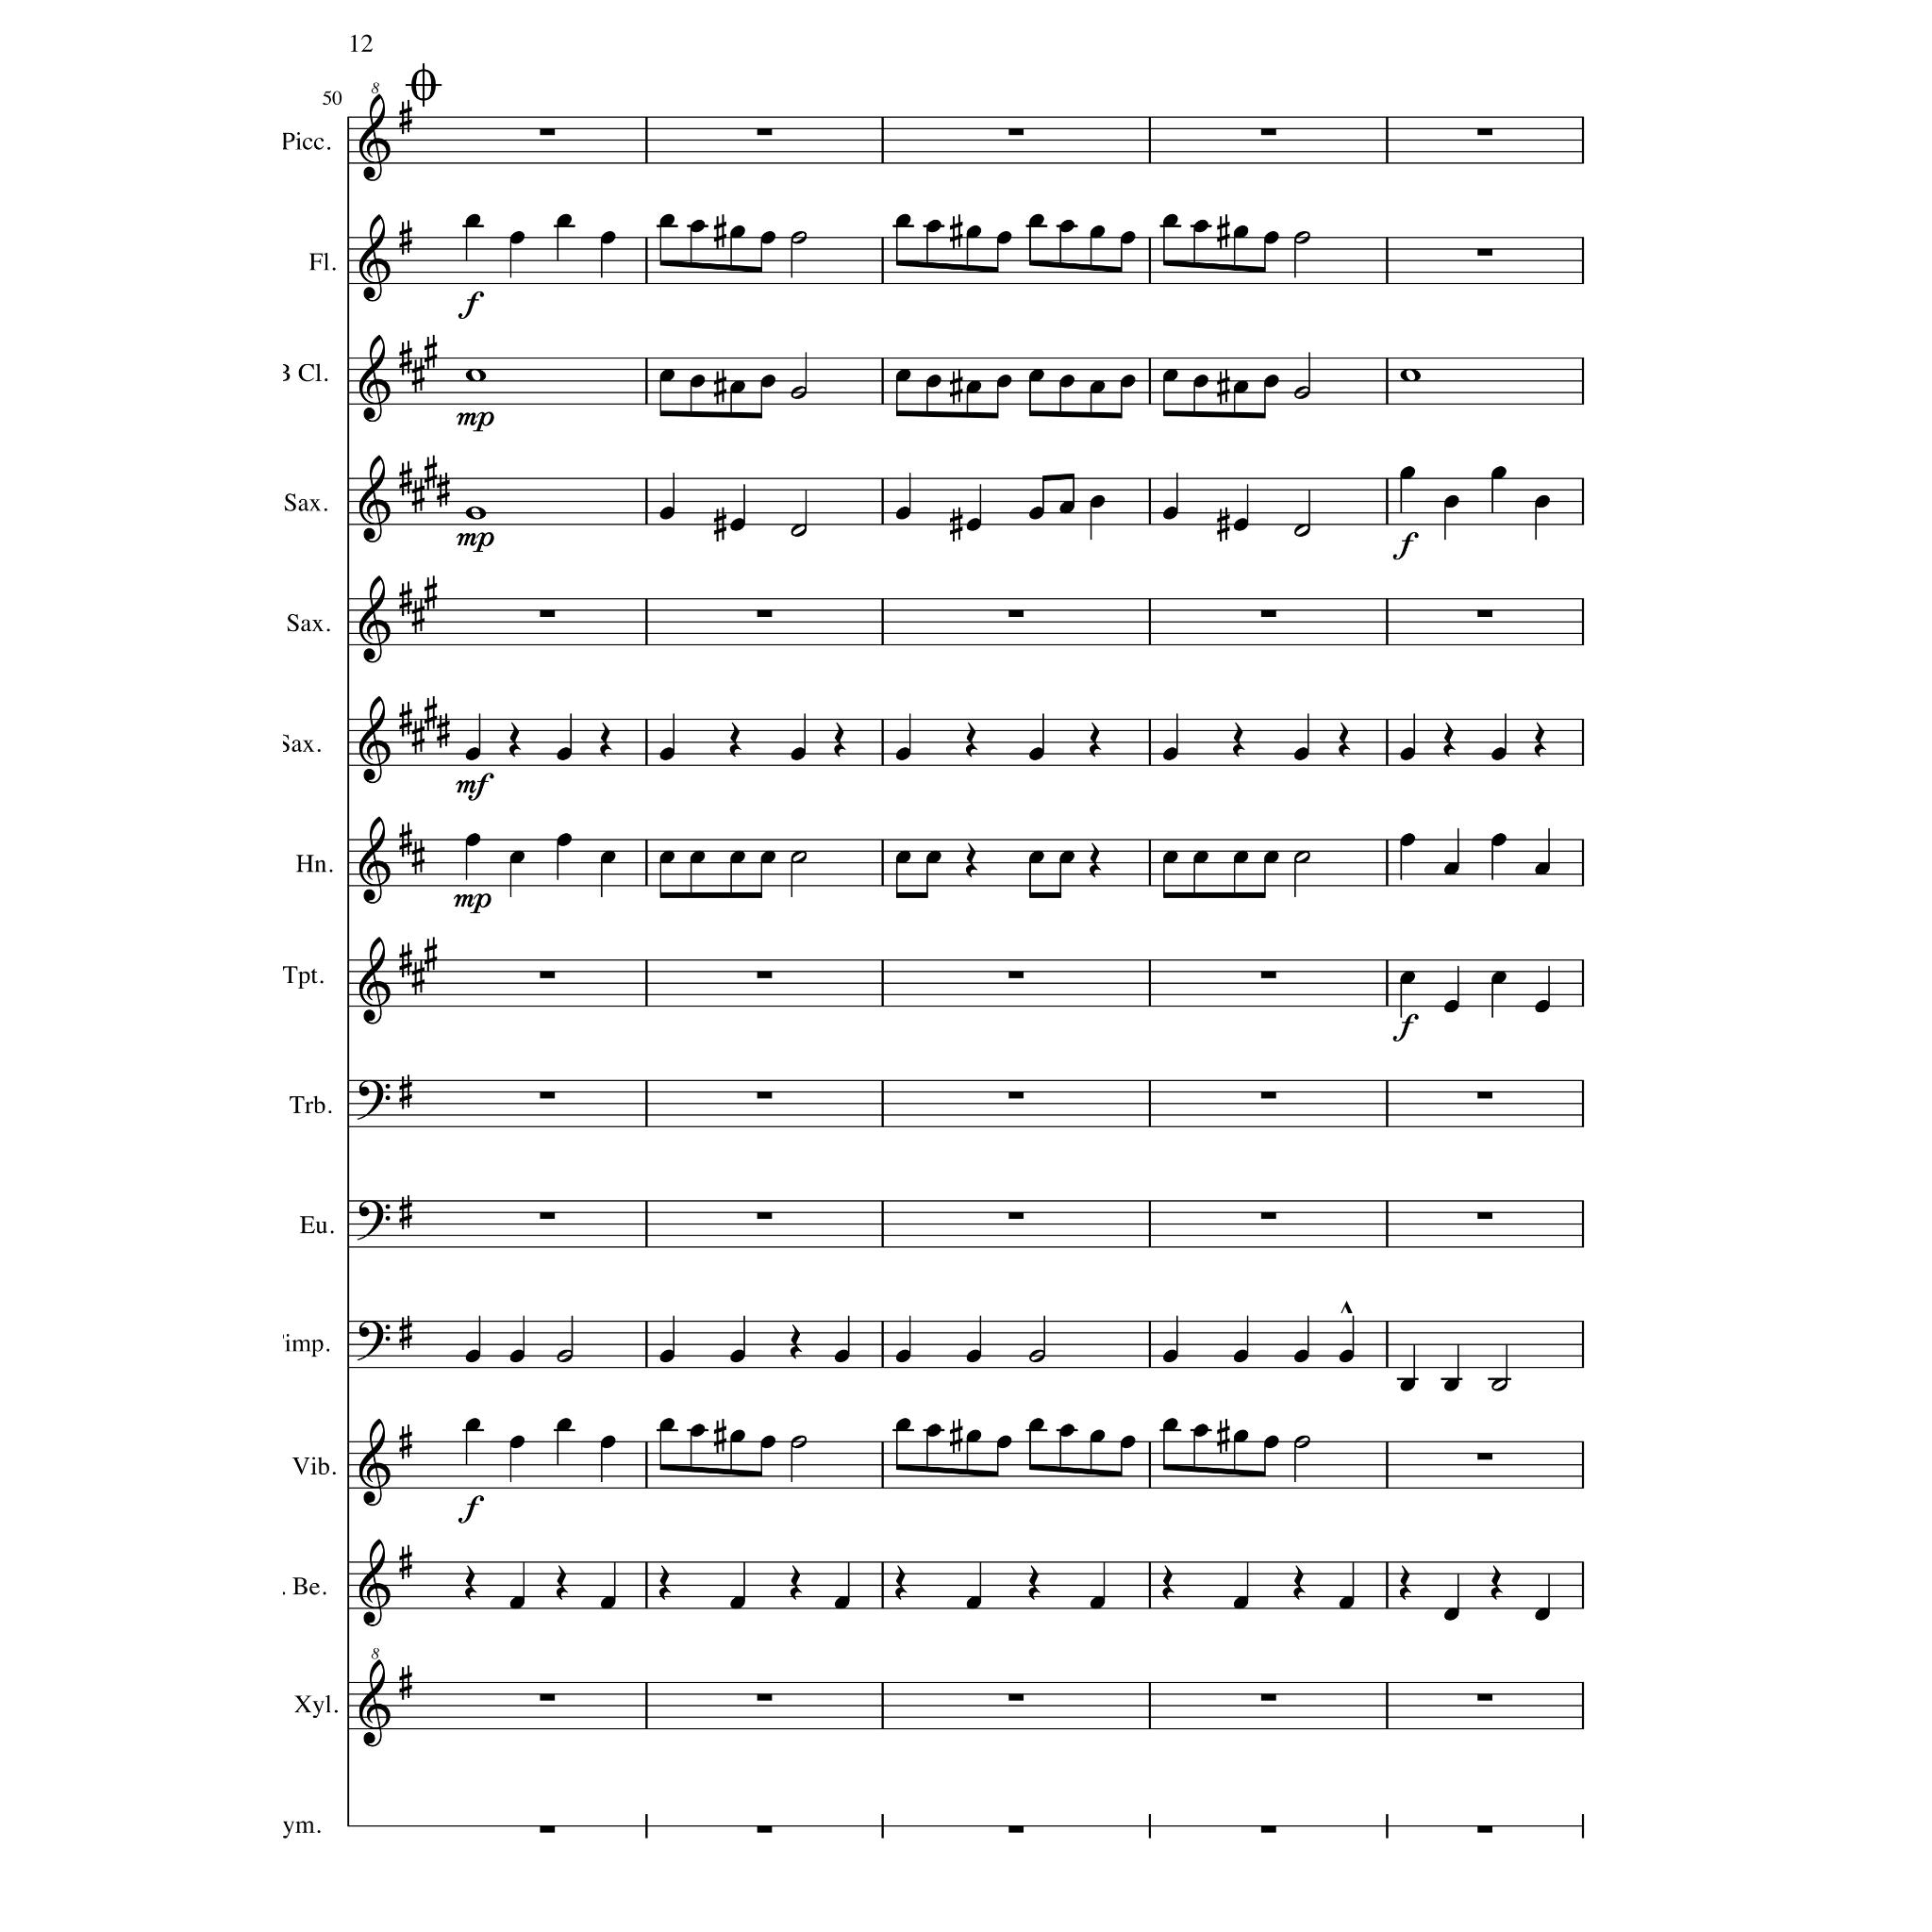fClef: (357, 1079, 391, 1120), (357, 1322, 391, 1362), (357, 1201, 391, 1240)
gClef: (359, 936, 391, 1026), (359, 1417, 391, 1507), (359, 455, 391, 543), (359, 334, 391, 423), (359, 214, 391, 303), (359, 94, 391, 182), (359, 816, 391, 904), (359, 695, 391, 784), (359, 575, 391, 663), (359, 1660, 391, 1748), (359, 1539, 391, 1628)
noteheadBlack: (759, 851, 777, 865), (759, 230, 777, 244), (1192, 219, 1208, 234), (1192, 851, 1208, 865), (1263, 230, 1279, 244), (1263, 851, 1279, 865), (1233, 851, 1249, 865), (1233, 225, 1249, 239), (1233, 1596, 1249, 1610), (1233, 1430, 1249, 1444), (1090, 1596, 1106, 1610), (1090, 1430, 1106, 1444), (1090, 225, 1106, 239), (1060, 851, 1076, 865), (1060, 501, 1076, 515), (1060, 219, 1076, 234), (1162, 1417, 1178, 1431), (1162, 851, 1178, 865), (1162, 747, 1178, 761), (1162, 506, 1178, 520), (1162, 368, 1178, 382), (1162, 214, 1178, 228), (1491, 747, 1507, 761), (1491, 465, 1507, 479), (1534, 1606, 1550, 1621), (1534, 1000, 1550, 1014), (1534, 862, 1550, 876), (1399, 747, 1415, 761), (1399, 465, 1415, 479), (1338, 1596, 1353, 1610), (1293, 747, 1309, 761), (1444, 1606, 1460, 1621), (1444, 1000, 1460, 1014), (1444, 862, 1460, 876), (600, 1596, 616, 1610), (600, 851, 616, 865), (600, 230, 616, 244), (556, 1417, 571, 1431), (556, 747, 571, 761), (556, 214, 571, 228), (690, 851, 706, 865), (690, 219, 706, 234), (510, 1596, 525, 1610), (510, 851, 525, 865), (510, 230, 525, 244), (465, 1417, 481, 1431), (465, 747, 481, 761), (465, 214, 481, 228), (925, 219, 941, 234), (925, 851, 941, 865), (996, 230, 1012, 244), (966, 1596, 982, 1610), (966, 1430, 982, 1444), (966, 225, 982, 239), (729, 225, 745, 239), (729, 1596, 745, 1610), (729, 1430, 745, 1444), (729, 851, 745, 865), (895, 1417, 911, 1431), (895, 851, 911, 865), (895, 214, 911, 228), (895, 368, 911, 382), (895, 506, 911, 520), (895, 747, 911, 761), (833, 1596, 849, 1610), (791, 747, 807, 761), (759, 1437, 777, 1449), (759, 375, 777, 387), (1120, 230, 1134, 244), (660, 1417, 674, 1431), (660, 851, 674, 865), (660, 747, 674, 761), (660, 506, 674, 520), (660, 368, 674, 382), (660, 214, 674, 228), (1030, 1417, 1044, 1431), (1030, 851, 1044, 865), (1030, 747, 1044, 761), (1030, 506, 1044, 520), (1030, 368, 1044, 382), (1030, 214, 1044, 228), (1192, 375, 1208, 387), (1192, 1424, 1208, 1437), (1263, 1437, 1279, 1449), (1263, 375, 1279, 387), (1233, 518, 1249, 531), (1233, 380, 1249, 393), (1233, 1350, 1249, 1362), (1090, 495, 1106, 508), (1090, 380, 1106, 393), (1060, 1424, 1076, 1437), (1060, 375, 1076, 387), (1162, 1350, 1178, 1362), (1491, 971, 1507, 984), (1491, 833, 1507, 846), (1534, 495, 1550, 508), (1399, 1378, 1415, 1391), (1399, 971, 1415, 984), (1399, 833, 1415, 846), (1293, 1350, 1309, 1362), (1338, 1350, 1353, 1362), (1444, 1378, 1460, 1391), (1444, 495, 1460, 508), (600, 1437, 616, 1449), (556, 833, 571, 846), (690, 1424, 706, 1437), (690, 375, 706, 387), (510, 1437, 525, 1449), (510, 1350, 525, 1362), (465, 1350, 481, 1362), (465, 833, 481, 846), (925, 1424, 941, 1437), (925, 375, 941, 387), (996, 1437, 1012, 1449), (996, 375, 1012, 387), (966, 1350, 982, 1362), (966, 518, 982, 531), (966, 380, 982, 393), (729, 1350, 745, 1362), (729, 518, 745, 531), (729, 380, 745, 393), (895, 1350, 911, 1362), (833, 1350, 849, 1362), (1120, 1437, 1134, 1449), (1120, 375, 1134, 387), (660, 1350, 674, 1362)
noteheadHalf: (1293, 230, 1311, 244), (791, 230, 807, 244), (1490, 1378, 1507, 1391), (1293, 1437, 1311, 1449), (1293, 851, 1311, 863), (1293, 524, 1311, 536), (1293, 387, 1311, 400), (1028, 1350, 1046, 1362), (557, 1350, 573, 1362), (791, 387, 807, 400), (791, 524, 807, 536), (791, 1437, 807, 1449), (791, 851, 807, 863)
noteheadWhole: (1399, 368, 1421, 382), (465, 506, 487, 520), (465, 368, 487, 382)
restQuarter: (1490, 1566, 1504, 1601), (1233, 722, 1246, 757), (1090, 842, 1102, 878), (1090, 722, 1102, 757), (1162, 1566, 1175, 1601), (1534, 722, 1546, 757), (1399, 1566, 1412, 1601), (1293, 1566, 1306, 1601), (1338, 722, 1350, 757), (1444, 722, 1456, 757), (600, 722, 612, 757), (658, 1566, 671, 1601), (556, 1566, 568, 1601), (1028, 1566, 1040, 1601), (510, 722, 522, 757), (465, 1566, 478, 1601), (966, 842, 978, 878), (966, 722, 978, 757), (729, 722, 741, 757), (833, 722, 846, 757), (895, 1566, 908, 1601), (791, 1566, 801, 1601), (791, 1325, 801, 1361)
restWhole: (1008, 1092, 1024, 1100), (755, 1092, 771, 1100), (1260, 1092, 1276, 1100), (1477, 1092, 1493, 1100), (540, 1092, 556, 1100), (1008, 129, 1024, 136), (1008, 610, 1024, 617), (1008, 971, 1024, 978), (755, 1826, 771, 1833), (1008, 1212, 1024, 1219), (1008, 1695, 1024, 1702), (1008, 1826, 1024, 1833), (755, 129, 771, 136), (755, 610, 771, 617), (755, 971, 771, 978), (755, 1212, 771, 1219), (755, 1695, 771, 1702), (1260, 129, 1276, 136), (1260, 610, 1276, 617), (1260, 971, 1276, 978), (1260, 1212, 1276, 1219), (1260, 1695, 1276, 1702), (1260, 1826, 1276, 1833), (1477, 1826, 1493, 1833), (1477, 1695, 1493, 1702), (1477, 1453, 1493, 1460), (1477, 1212, 1493, 1219), (1477, 610, 1493, 617), (1477, 249, 1493, 257), (1477, 129, 1493, 136), (540, 1826, 556, 1833), (540, 1695, 556, 1702), (540, 1212, 556, 1219), (540, 971, 556, 978), (540, 610, 556, 617), (540, 129, 556, 136)
